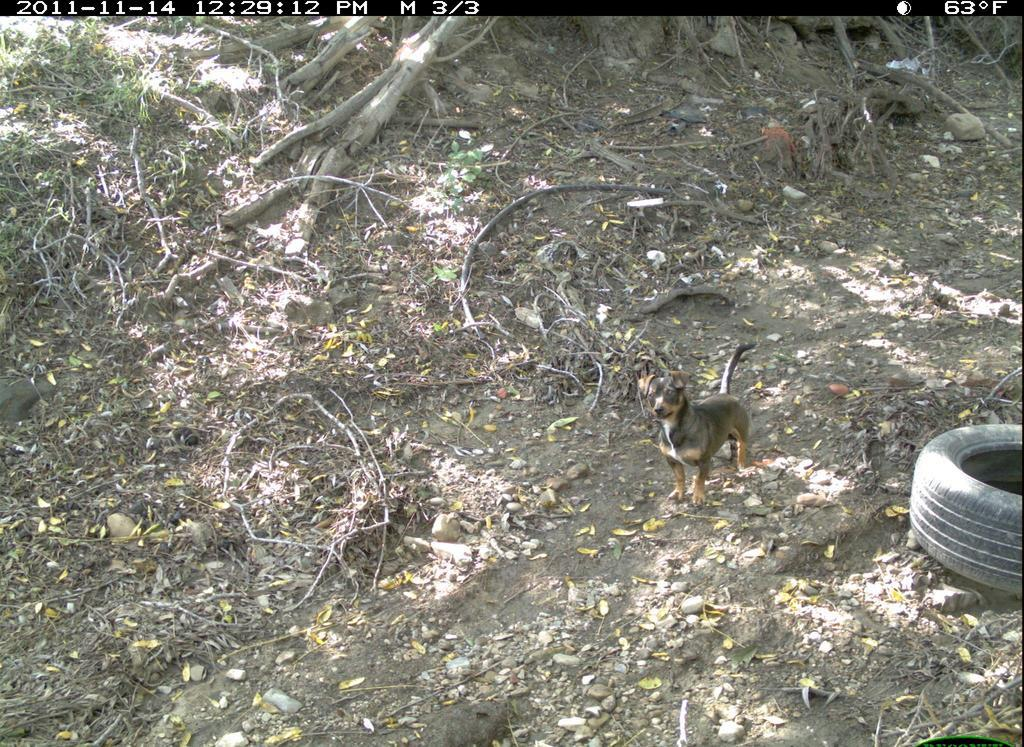dog: (629, 340, 769, 513)
